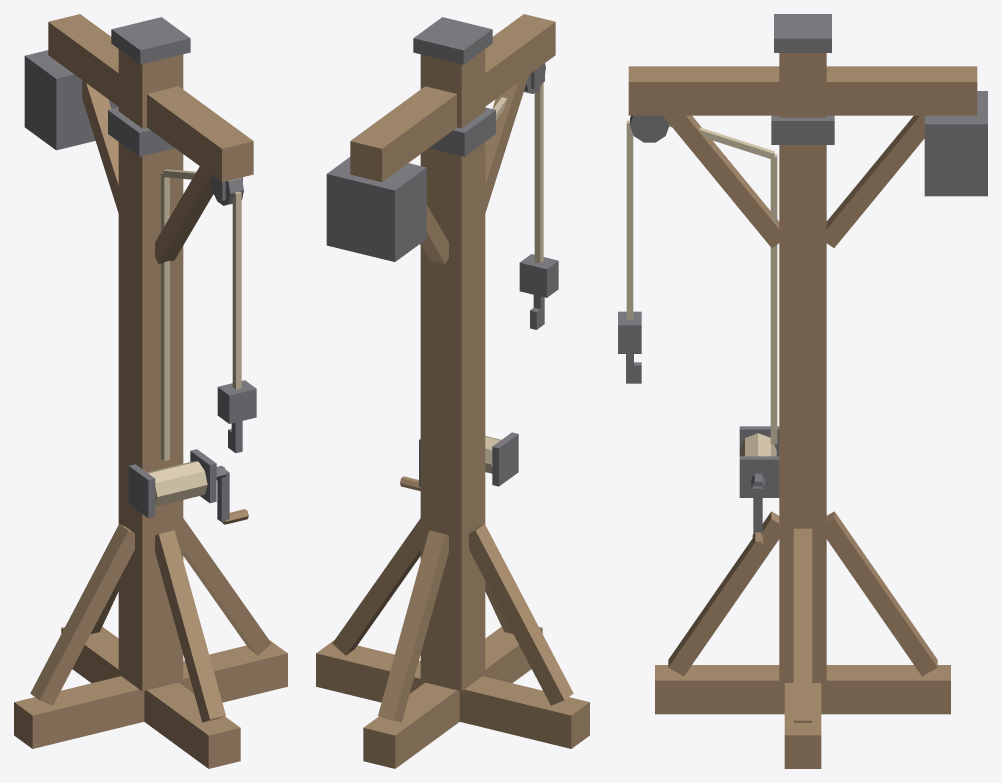
The model's file is prop-jib-crane-wood.glb.
3 renders of one model, left to right at view 1: azimuth 30°, elevation 25°; view 2: azimuth 150°, elevation 25°; view 3: azimuth 270°, elevation 25°, orthographic.
Parts seen in each view (by area): view 1: prop-jib-crane-wood; view 2: prop-jib-crane-wood; view 3: prop-jib-crane-wood.
Part boxes in pixels (x1,y1,x2,y2): prop-jib-crane-wood: [14, 14, 287, 768]; prop-jib-crane-wood: [316, 14, 589, 768]; prop-jib-crane-wood: [618, 14, 987, 768].
Size of the model in its own units: 1.12 by 2.84 by 1.4.
